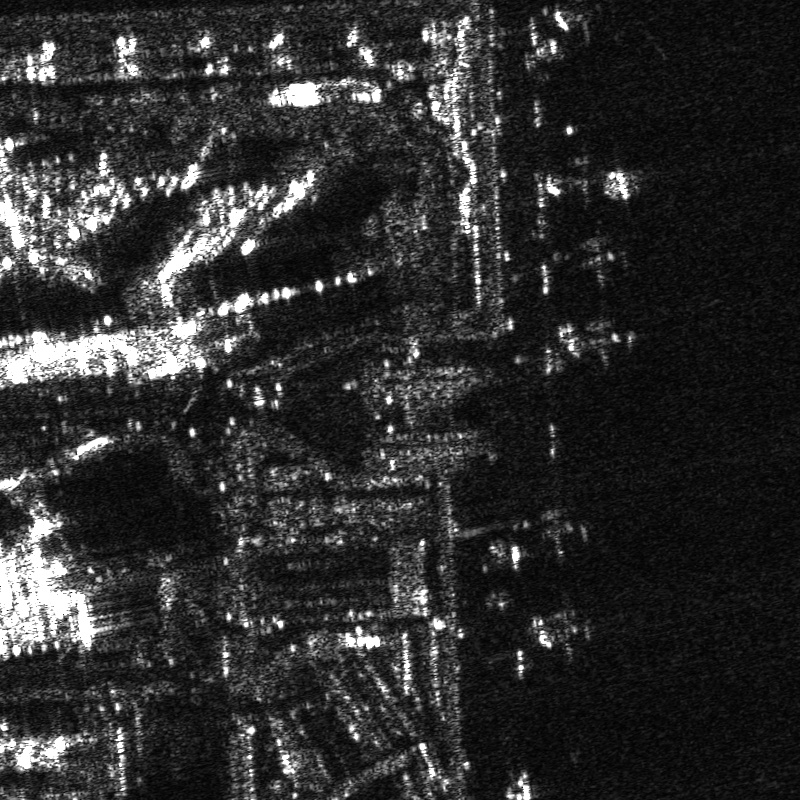A220: (547, 144, 645, 210), (559, 306, 648, 373), (521, 601, 605, 665), (526, 495, 600, 564), (562, 232, 639, 293), (543, 3, 594, 61)
